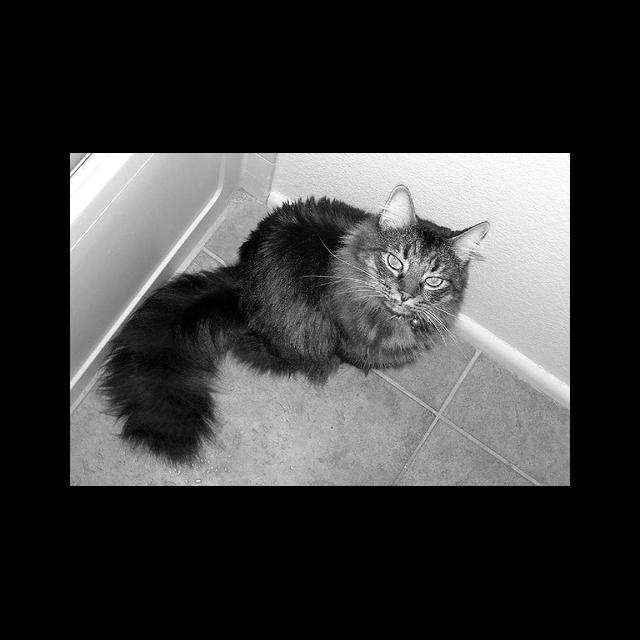animals: (378, 187, 486, 300)
